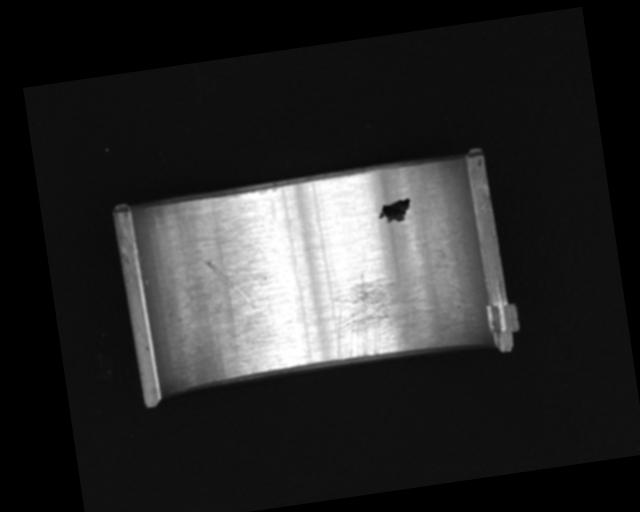blot: (374, 196, 414, 225)
nick: (203, 254, 253, 314)
scratch: (327, 262, 451, 364)
